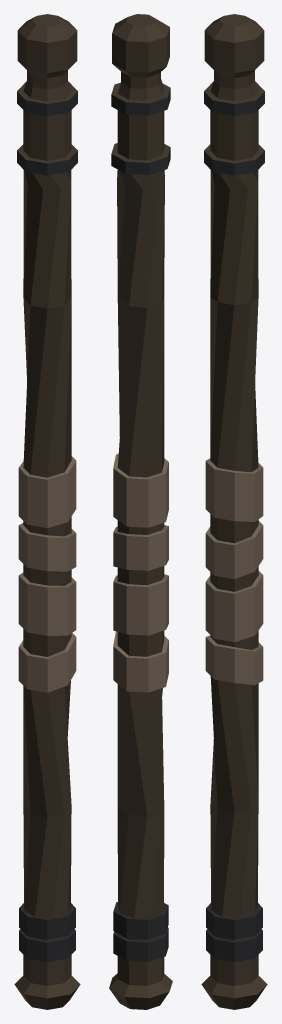
Rendered from Wand_B.glb.
3 views of the same model, side by side, from view 1: azimuth 90°, elevation 25°; view 2: azimuth 150°, elevation 25°; view 3: azimuth 270°, elevation 25° (orthographic).
Parts seen in each view (by area): view 1: Wand_B; view 2: Wand_B; view 3: Wand_B.
Boxes of the visible parts, x1,y1,x2,y2 form: Wand_B: (14,14,80,1009); Wand_B: (109,14,172,1009); Wand_B: (201,14,267,1009).
Bounding box in the file's own units: 0.0194 × 0.3171 × 0.0194.
1 material, 1 textured.
